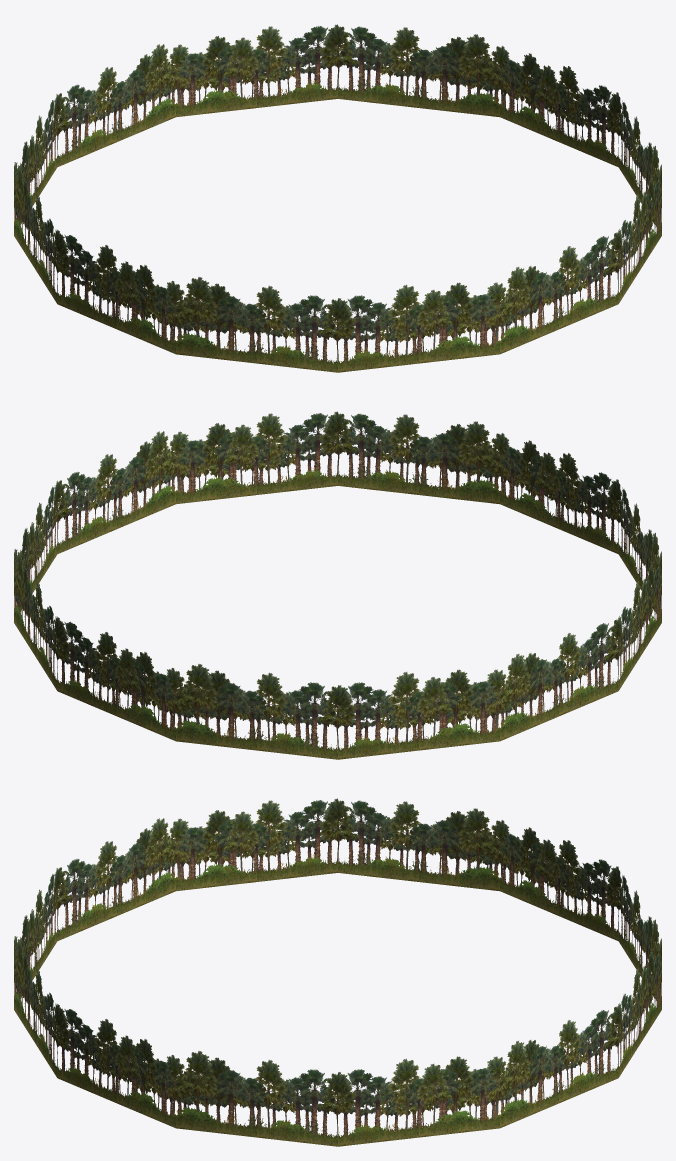
Rendered from Background.fbx.
3 views of the same model, one above another, from view 1: azimuth 30°, elevation 25°; view 2: azimuth 150°, elevation 25°; view 3: azimuth 270°, elevation 25° (orthographic).
Parts seen in each view (by area): view 1: Cylinder006; view 2: Cylinder006; view 3: Cylinder006.
Part boxes in pixels (<box>): Cylinder006: <box>14,24,661,372</box>; Cylinder006: <box>14,411,661,759</box>; Cylinder006: <box>14,798,661,1146</box>.
Bounding box in the file's own units: 2000 × 2000 × 288.
